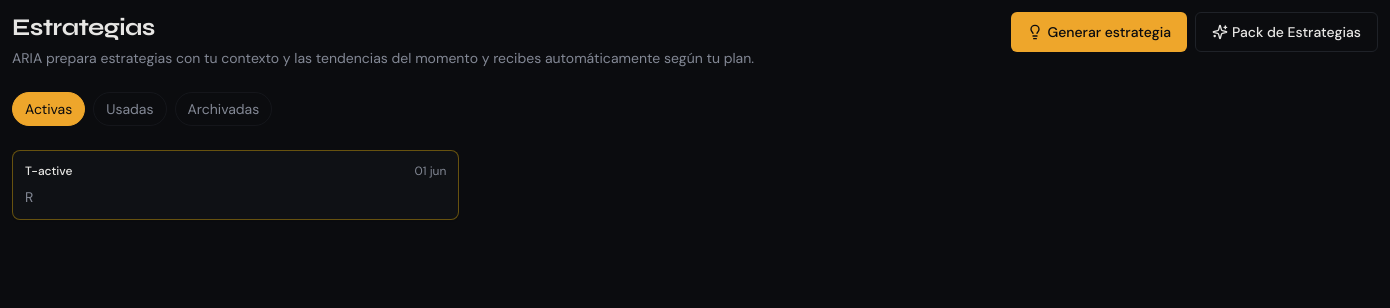
Test: Estrategias Fase B.2 · Usadas = ideas sueltas › test_archivadas_muestra_ideas · chip Archivadas → ideas archivadas (C.2 · no estrategias)
Click the button "Archivadas" at x=223, y=109, box [174,92,272,126]
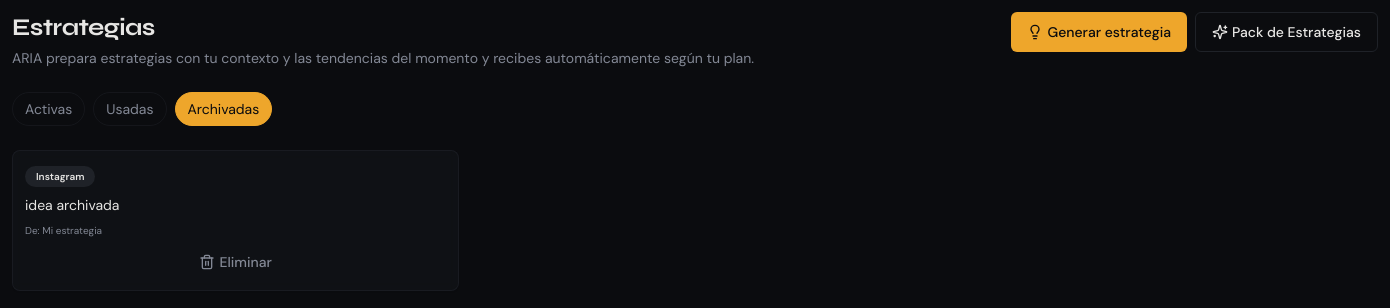
Check: the text "idea archivada" is shown, box [25,196,119,214]
